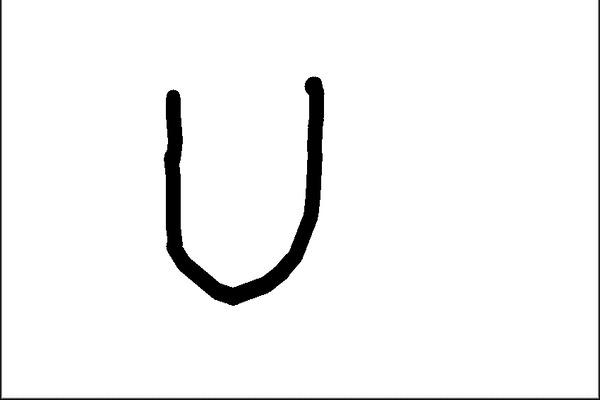U: (148, 72, 328, 306)
